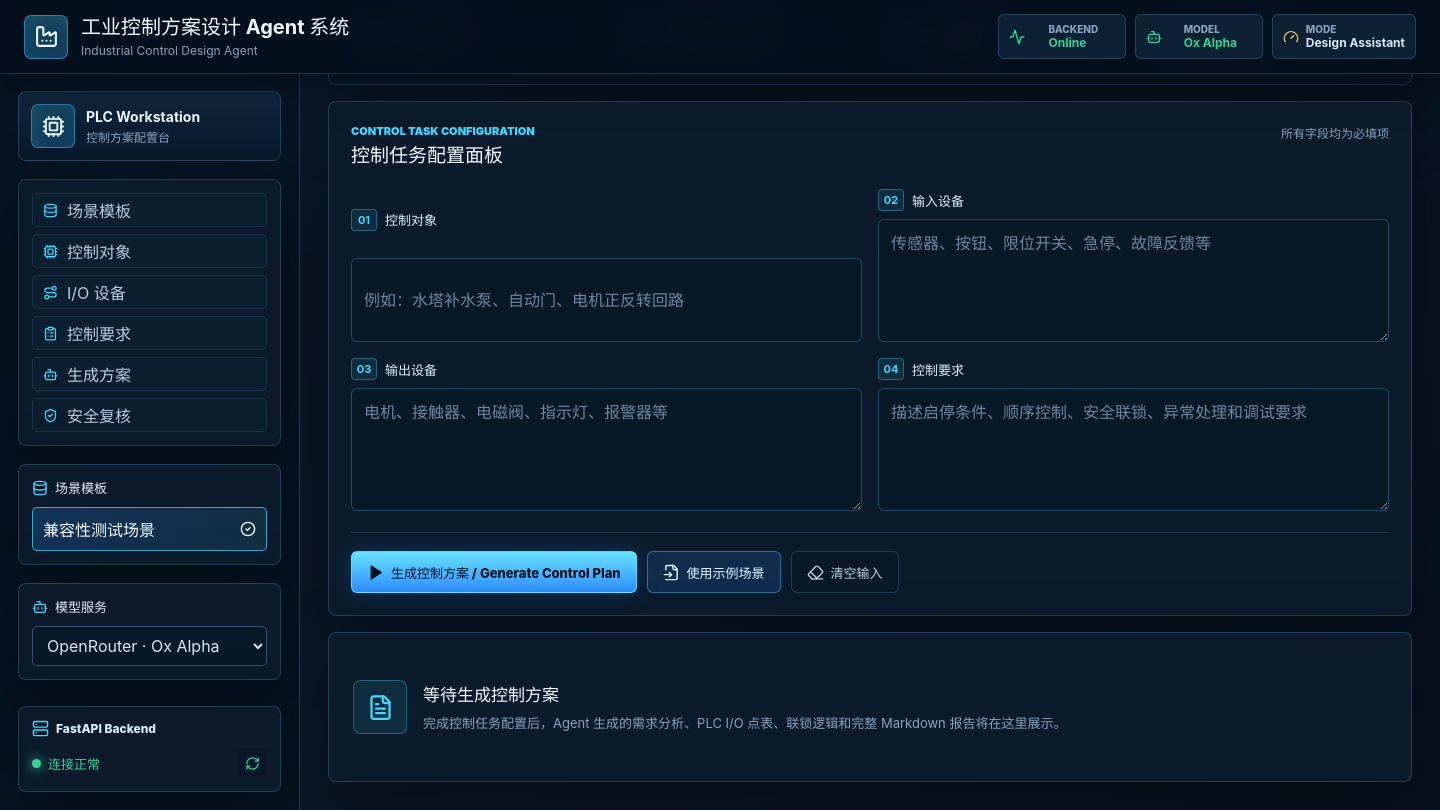
Test: App response compatibility › renders a legacy response without validation_report
(page scrolled)
Click the button "使用示例场景" at {"x": 714, "y": 572}, box [647, 552, 781, 594]
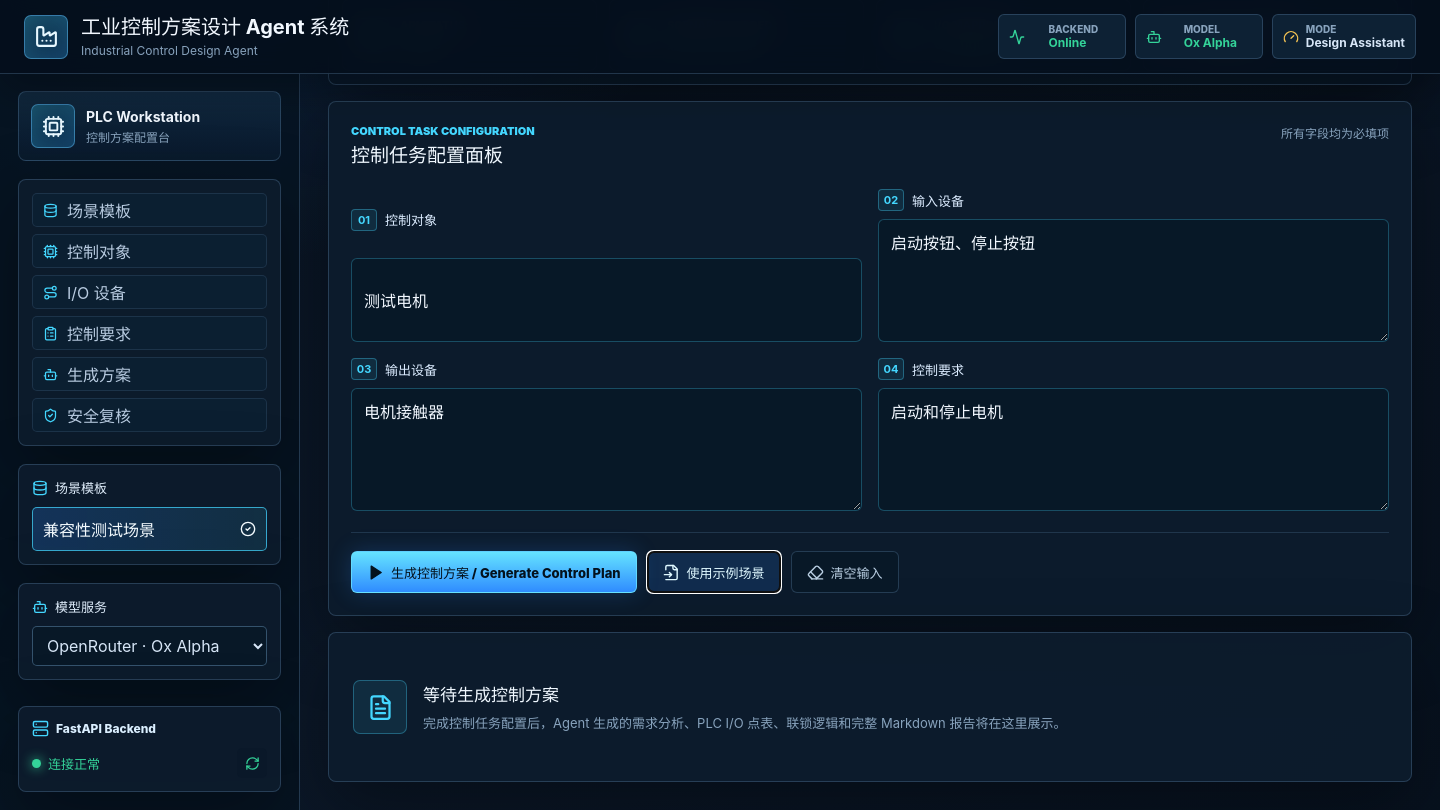
Click the button "生成控制方案 / Generate Control Plan" at {"x": 494, "y": 572}, box [351, 552, 637, 594]
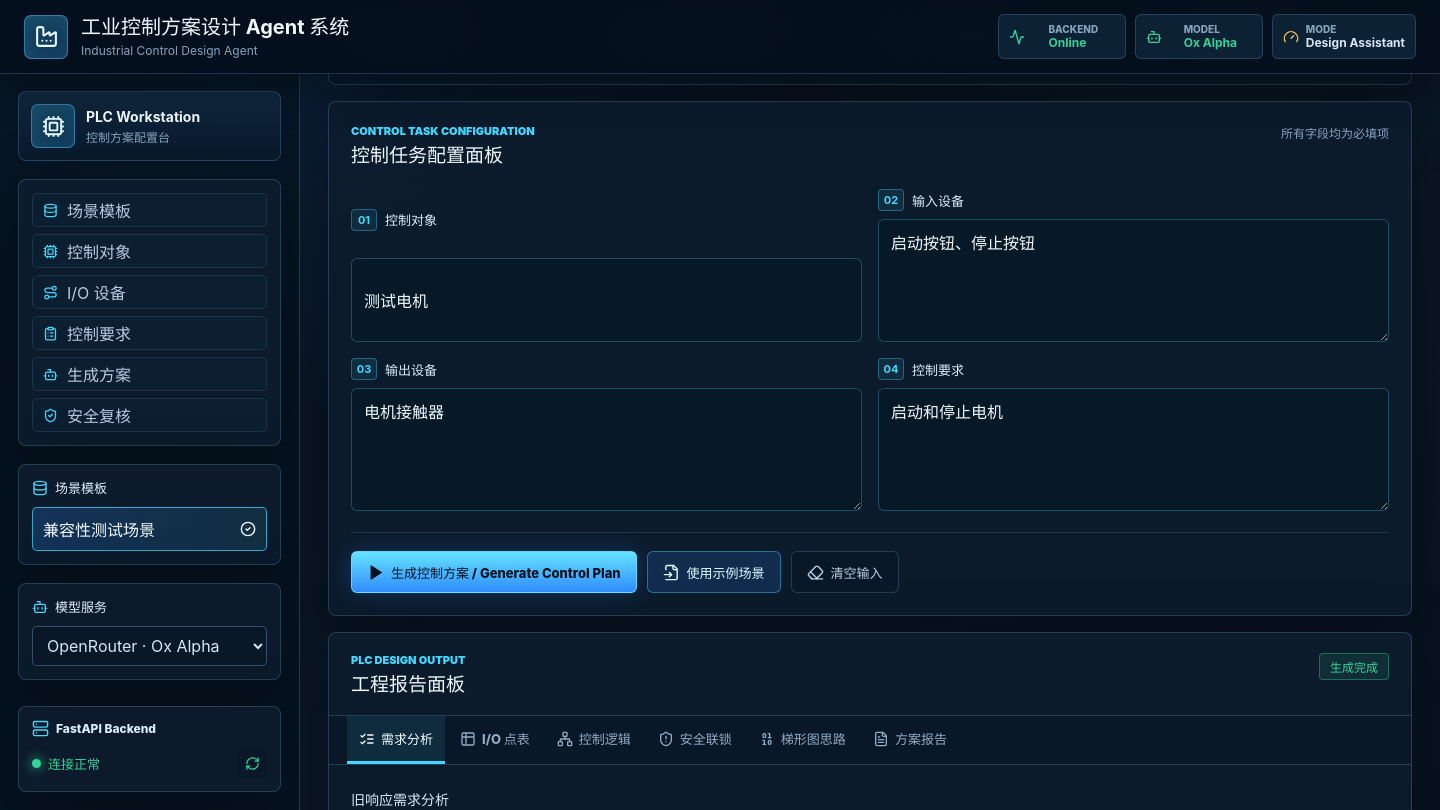
Result: the text "旧响应需求分析" is shown at [351, 791, 449, 808]
Result: the heading "工程报告面板" is shown at [351, 674, 466, 698]
